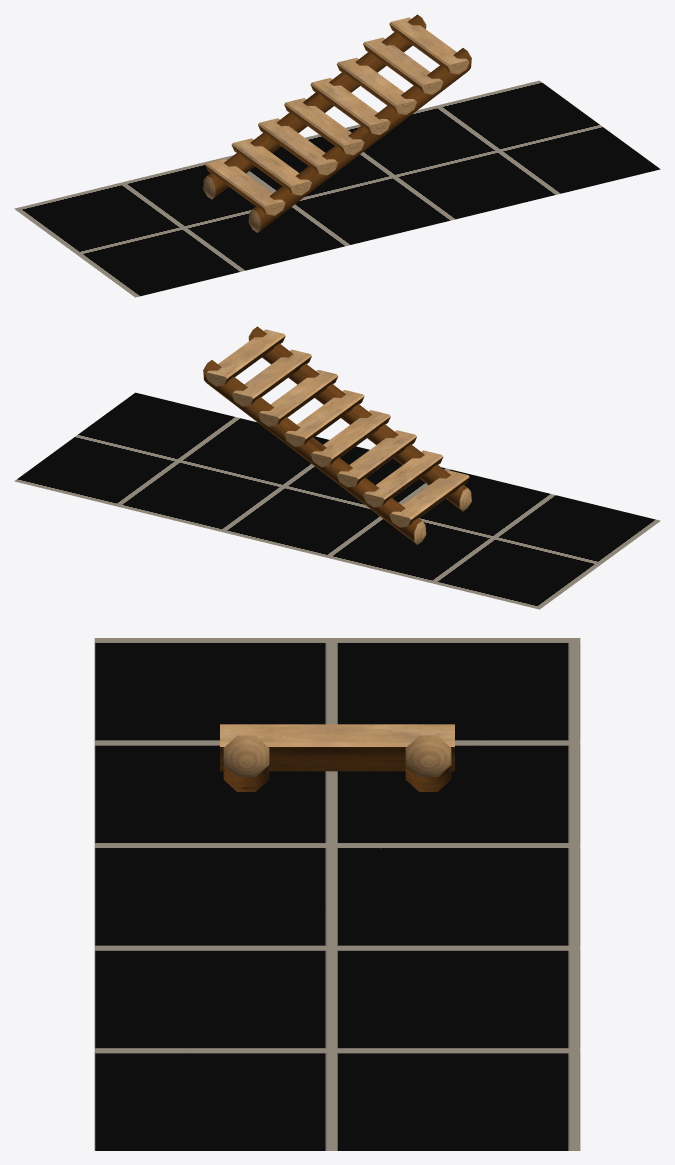
The model's file is Docks_Decking_Steps_1x2.glb.
The picture shows the model from 3 angles, top to bottom: view 1: azimuth 30°, elevation 25°; view 2: azimuth 150°, elevation 25°; view 3: azimuth 270°, elevation 25°; orthographic projection. The views are drawn at different scales.
Parts seen in each view (by area): view 1: Floor, Docks_Decking_Steps_1x2; view 2: Floor, Docks_Decking_Steps_1x2; view 3: Floor, Docks_Decking_Steps_1x2.
Boxes of the visible parts, x1,y1,x2,y2 form: Floor: (14,80,660,297); Docks_Decking_Steps_1x2: (203,14,471,232); Floor: (14,392,660,609); Docks_Decking_Steps_1x2: (203,326,471,544); Floor: (94,638,580,1150); Docks_Decking_Steps_1x2: (220,724,454,791).
Bounding box in the file's own units: 500 × 119 × 200.
4 materials, 4 textured.
